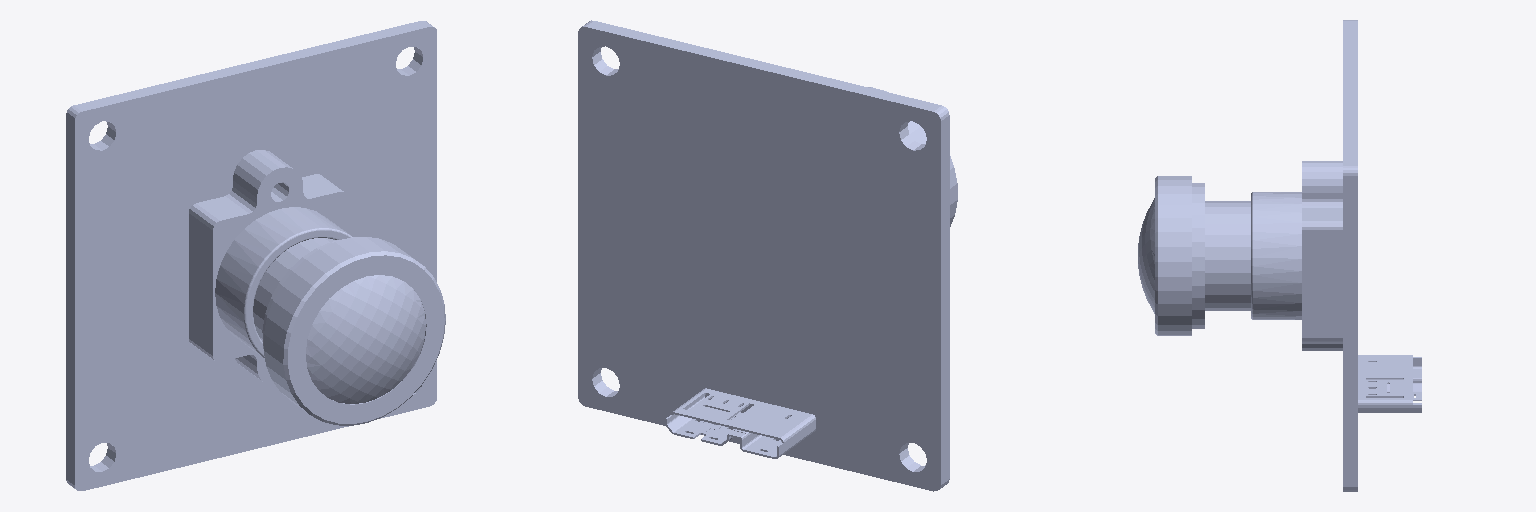
robot.urdf — ocam:
<?xml version="1.0" encoding="utf-8"?>
<!-- This URDF was automatically created by SolidWorks to URDF Exporter! Originally created by [author] ([email redacted]) 
     Commit Version: 1.5.1-0-g916b5db  Build Version: 1.5.7152.31018
     For more information, please see http://wiki.ros.org/sw_urdf_exporter -->
<robot
  name="ocam">
  <link
    name="ocam">
    <inertial>
      <origin
        xyz="-1.8658E-06 -0.0072991 -8.97379999999996E-05"
        rpy="0 0 0" />
      <mass
        value="0.00585" />
      <inertia
        ixx="7.2132E-07"
        ixy="1.2299E-10"
        ixz="-1.677E-10"
        iyy="7.1029E-07"
        iyz="-6.007E-09"
        izz="7.0435E-07" />
    </inertial>
    <visual>
      <origin
        xyz="0 0 0"
        rpy="1.5707963267949 0 0" />
      <geometry>
        <mesh
          filename="package://gimbal/meshes/ocam.STL" />
      </geometry>
      <material
        name="">
        <color
          rgba="0.79216 0.81961 0.93333 1" />
        <texture
          filename="package://gimbal/textures/" />
      </material>
    </visual>
    <collision>
      <origin
        xyz="0 0 0"
        rpy="1.5707963267949 0 0" />
      <geometry>
        <mesh
          filename="package://gimbal/meshes/ocam.STL" />
      </geometry>
    </collision>
  </link>
</robot>

--- Facts derived from the render (not from the file) ---
Views: 3 orthographic renders of the robot side by side, from view 1: azimuth 30°, elevation 25°; view 2: azimuth 150°, elevation 25°; view 3: azimuth 270°, elevation 25°.
Model ocam with 1 links and 0 joints (none), rooted at ocam, posed every joint at zero.
Links seen in each view (by area): view 1: ocam; view 2: ocam; view 3: ocam.
Link boxes in pixels (bbox=[...]): ocam: bbox=[66, 21, 445, 490]; ocam: bbox=[578, 20, 957, 491]; ocam: bbox=[1138, 20, 1421, 491].
Bounding box of the posed robot: 0.039 × 0.031 × 0.039 m (x, y, z).
Meshes: 1 distinct files referenced, 1 mesh visuals loaded (1 binary STL).